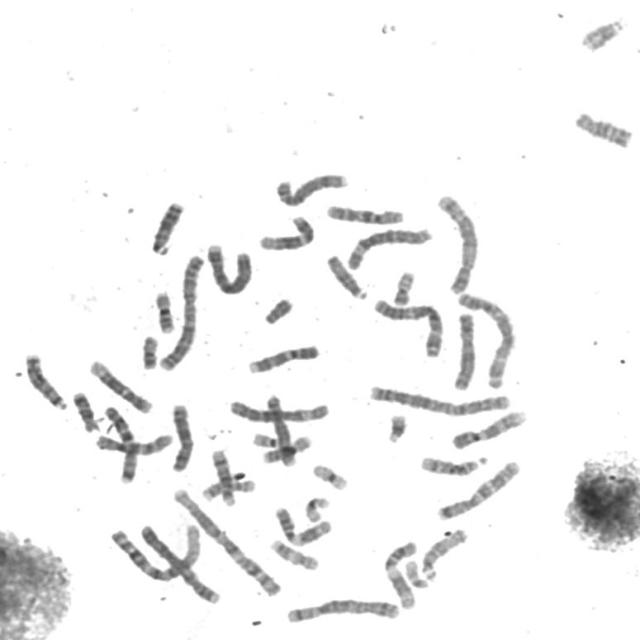A1: (168, 482, 285, 598), (107, 520, 206, 582)
A2: (156, 250, 208, 372), (365, 378, 514, 417)
A3: (454, 288, 520, 390), (370, 294, 447, 358)
B4: (136, 521, 224, 605), (203, 239, 255, 296)
B5: (434, 189, 482, 296), (282, 594, 403, 626)
C10: (92, 428, 176, 457), (323, 200, 407, 226)
C11: (271, 502, 335, 548), (382, 536, 421, 611)
C12: (85, 354, 156, 414), (256, 210, 317, 252)
C6: (343, 222, 436, 271), (225, 396, 332, 424)
C7: (434, 456, 524, 522), (99, 400, 141, 484)
C8: (272, 168, 351, 208), (262, 390, 299, 468)
C9: (448, 405, 530, 451), (244, 340, 323, 376)
D13: (21, 348, 70, 412), (148, 196, 187, 257)
D14: (208, 445, 240, 507), (416, 451, 491, 477)
D15: (418, 524, 471, 581), (324, 250, 371, 301)
E16: (258, 430, 314, 464), (152, 287, 178, 335)
E17: (266, 536, 322, 572), (199, 474, 259, 502)
E18: (571, 107, 636, 149), (68, 387, 102, 433)
F19: (309, 459, 351, 492), (301, 492, 333, 523)
F20: (390, 266, 418, 307), (139, 332, 161, 371)
G21: (578, 13, 628, 53), (383, 409, 411, 445)
G22: (401, 556, 432, 590), (246, 430, 283, 453)
X: (449, 308, 481, 392), (167, 399, 196, 473)
Y: (260, 293, 296, 326)
